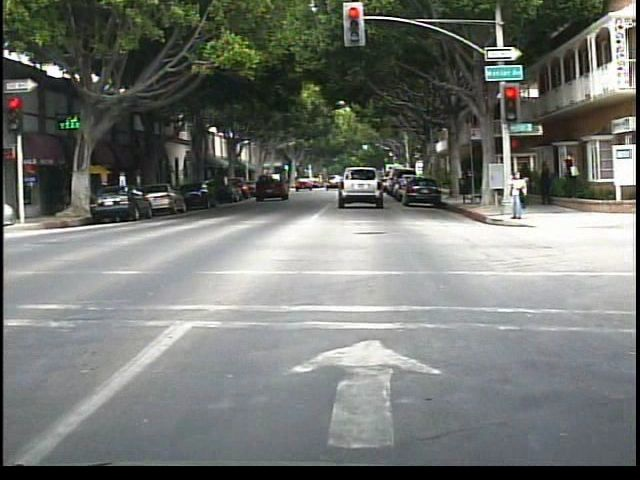person: (503, 168, 529, 222), (533, 157, 554, 211), (559, 149, 581, 199), (516, 156, 534, 205)
